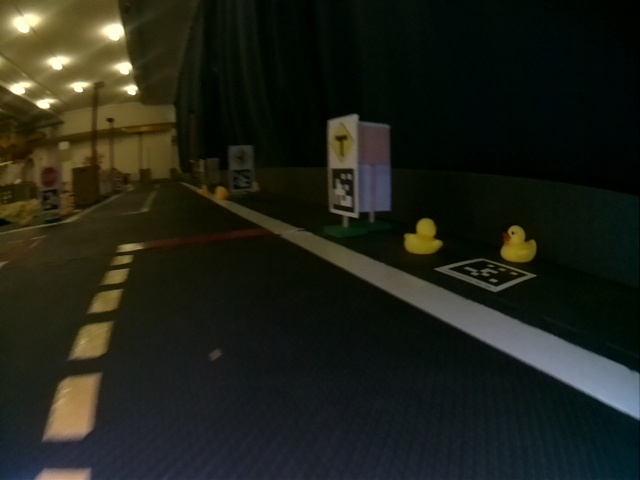Duckie: (406, 218, 440, 253), (501, 226, 534, 262), (215, 187, 226, 197), (198, 186, 207, 195)
Intersection sign: (329, 120, 356, 155), (233, 151, 253, 168)
QR code: (434, 258, 535, 292), (329, 168, 355, 212), (232, 173, 254, 191), (42, 191, 59, 212)
Stop sign: (39, 168, 60, 186)
